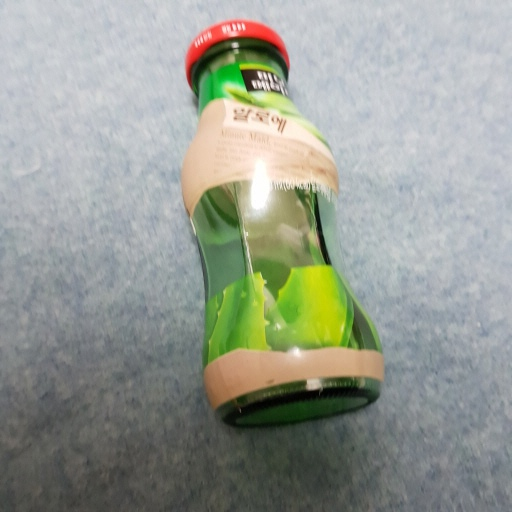Glass_4: (175, 26, 393, 429)
